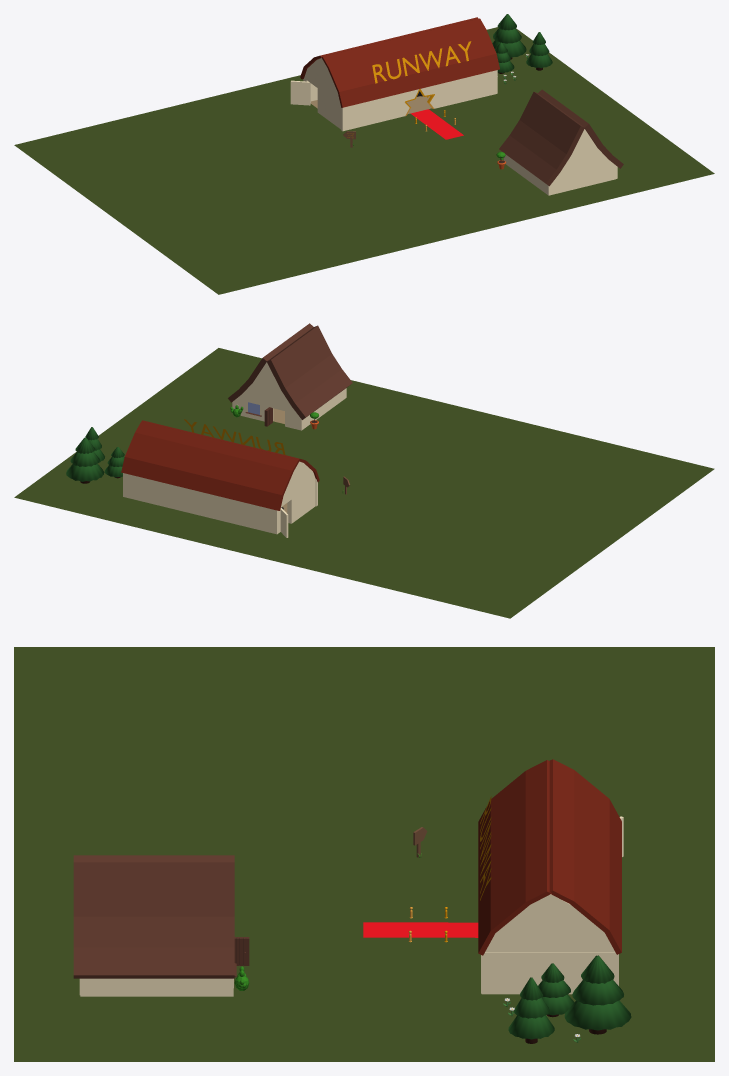
Rendered from withRunway3.glb.
3 renders of one model, top to bottom at view 1: azimuth 30°, elevation 25°; view 2: azimuth 150°, elevation 25°; view 3: azimuth 270°, elevation 25°, orthographic. The views are drawn at different scales.
Visible parts, largest first — view 1: plan, Cube.057, Cube.038, Cube.137, Cube.041, Cube.003, Text, Cube.055, Cube.039, Plane.008, Cube.050, Cube.001 (+2 smaller); view 2: plan, Cube.056, Cube.038, Cube.049, Cube.040, Cube.055, Cube.039, Cube.050, Cylinder.151, Text; view 3: plan, Cube.039, Cube.056, Cube.057, Cube.054, Cube.051, Cube.002, Plane.008, Cylinder.151, Cube.038, Cylinder.150, Cylinder.159.
Part boxes in pixels (x1,y1,x2,y2): plan: [14, 27, 714, 294]; Cube.057: [322, 18, 499, 107]; Cube.038: [499, 92, 584, 186]; Cube.137: [341, 70, 496, 131]; Cube.041: [556, 129, 613, 178]; Cube.003: [553, 164, 615, 194]; Text: [372, 41, 471, 83]; Cube.055: [304, 58, 340, 104]; Cube.039: [538, 89, 623, 168]; Plane.008: [410, 109, 463, 139]; Cube.050: [317, 88, 340, 129]; Cube.001: [505, 154, 553, 195]; plan: [14, 348, 714, 618]; Cube.056: [121, 421, 299, 510]; Cube.038: [267, 325, 352, 419]; Cube.049: [124, 473, 277, 534]; Cube.040: [236, 362, 296, 413]; Cube.055: [281, 461, 315, 506]; Cube.039: [228, 323, 313, 402]; Cube.050: [287, 482, 315, 523]; Cylinder.151: [66, 463, 104, 481]; Text: [184, 419, 285, 454]; plan: [14, 647, 714, 1061]; Cube.039: [73, 862, 234, 978]; Cube.056: [549, 759, 621, 954]; Cube.057: [478, 760, 551, 955]; Cube.054: [485, 894, 614, 951]; Cube.051: [481, 952, 618, 994]; Cube.002: [80, 978, 229, 996]; Plane.008: [363, 922, 478, 937]; Cylinder.151: [564, 1000, 631, 1030]; Cube.038: [73, 855, 234, 862]; Cylinder.150: [572, 979, 623, 1005]; Cylinder.159: [508, 1015, 554, 1039].
Bounding box in the file's own units: 140 × 18.78 × 100.
